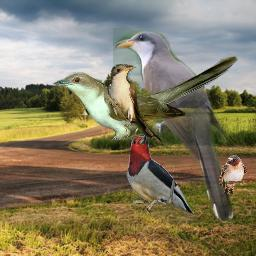Cuckoo: (113, 28, 238, 225), (53, 55, 238, 140), (107, 64, 163, 146)
Swallow: (219, 155, 247, 194)
Woodpecker: (124, 130, 198, 224)
